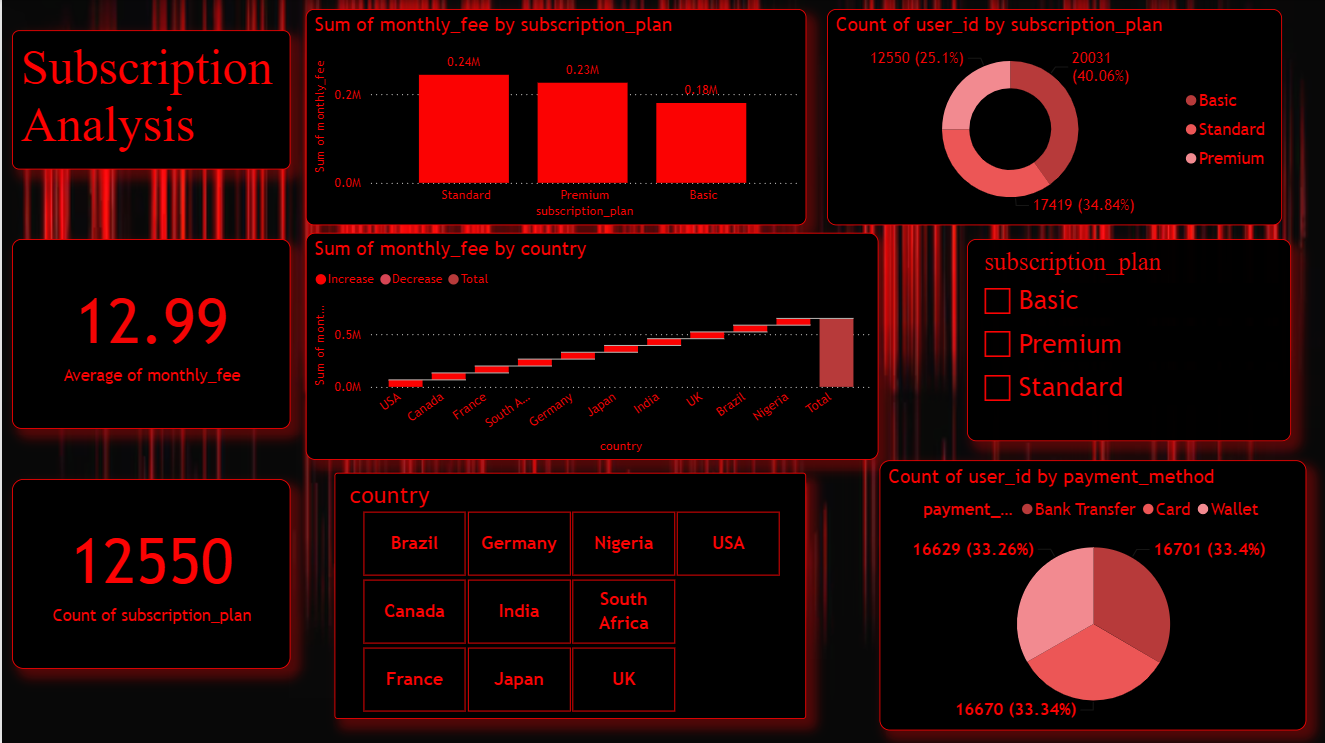

What the dashboard file says about the page in this screenshot:
{"tool":"powerbi","page":{"name":"SA","canvas":[1280,720],"ordinal":3},"visuals":[{"type":"textbox","box":[9.6,30.2,269,134.5],"z":0},{"type":"cardVisual","fields":{"Data":["Avg(archive.monthly_fee)"]},"box":[10,231.5,269,183],"z":1000},{"type":"cardVisual","fields":{"Data":["CountNonNull(archive.subscription_plan)"]},"box":[10,463.5,269,183],"z":2000},{"type":"clusteredColumnChart","fields":{"Category":["archive.subscription_plan"],"Y":["Sum(archive.monthly_fee)"]},"box":[293.7,9.6,483,208.6],"z":3000},{"type":"donutChart","fields":{"Category":["archive.subscription_plan"],"Y":["CountNonNull(archive.user_id)"]},"box":[795.9,9.6,439.1,208.6],"z":4000},{"type":"waterfallChart","fields":{"Category":["archive.country"],"Y":["Sum(archive.monthly_fee)"]},"box":[293.7,225,553,219.6],"z":5000},{"type":"pieChart","fields":{"Category":["archive.payment_method"],"Y":["CountNonNull(archive.user_id)"]},"box":[846.7,444.6,411.7,260.7],"z":6000},{"type":"slicer","fields":{"Values":["archive.country"]},"box":[321.1,456.9,455.6,237.4],"z":8000},{"type":"slicer","fields":{"Values":["archive.subscription_plan"]},"box":[931.7,231.9,312.9,194.9],"z":9000}]}

Visuals, with their boxes in screenshot pixels (x1, y1, x2, y2), scaled from the page's 1280x720 canvas onto the 1325x743 screenshot:
textbox: 10,31,288,170
cardVisual - Avg(archive.monthly_fee): 10,239,289,428
cardVisual - CountNonNull(archive.subscription_plan): 10,478,289,667
clusteredColumnChart - archive.subscription_plan x Sum(archive.monthly_fee): 304,10,804,225
donutChart - archive.subscription_plan x CountNonNull(archive.user_id): 824,10,1278,225
waterfallChart - archive.country x Sum(archive.monthly_fee): 304,232,876,459
pieChart - archive.payment_method x CountNonNull(archive.user_id): 876,459,1303,728
slicer - archive.country: 332,471,804,716
slicer - archive.subscription_plan: 964,239,1288,440
